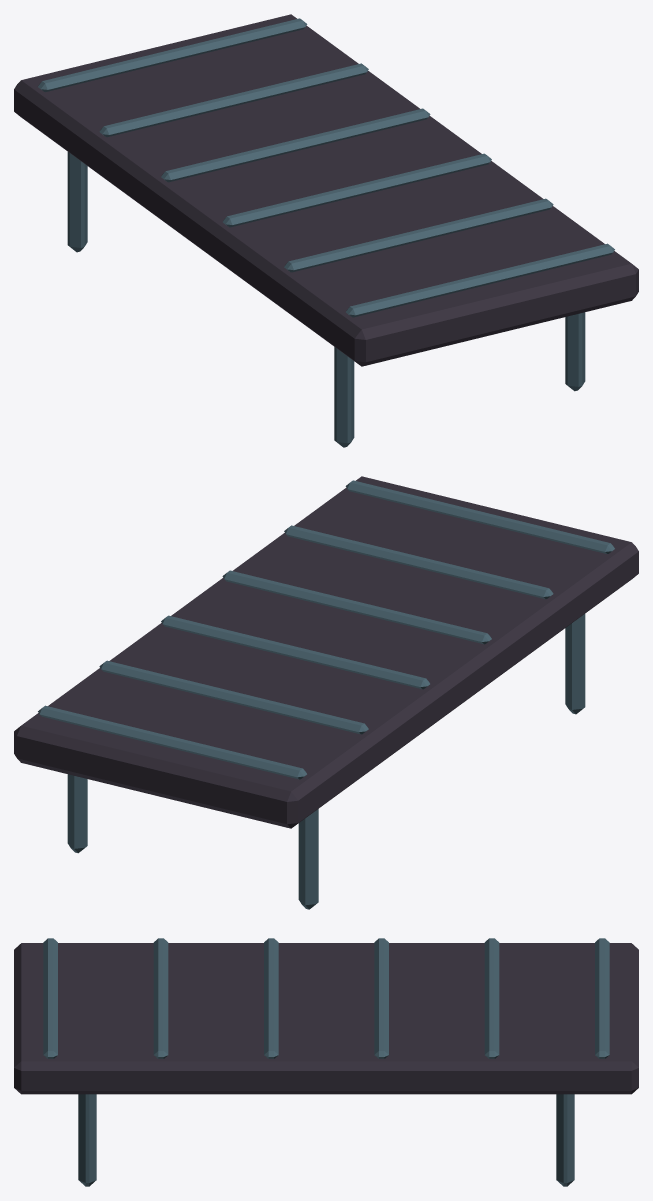
File: conveyor.glb
3 renders of one model, top to bottom at view 1: azimuth 30°, elevation 25°; view 2: azimuth 150°, elevation 25°; view 3: azimuth 270°, elevation 25°, orthographic. The views are drawn at different scales.
Visible parts, largest first — view 1: conveyor-belt, belt-slat.003, belt-slat.001, belt-slat.005, belt-slat, belt-slat.002, belt-slat.004, conveyor-leg.001, conveyor-leg, conveyor-leg.002; view 2: conveyor-belt, belt-slat.002, belt-slat, belt-slat.004, belt-slat.005, belt-slat.001, belt-slat.003, conveyor-leg, conveyor-leg.001, conveyor-leg.003; view 3: conveyor-belt, belt-slat.001, belt-slat.004, belt-slat.002, belt-slat.003, belt-slat, belt-slat.005, conveyor-leg.002, conveyor-leg.003.
Part boxes in pixels (bbox=[...]): conveyor-belt: bbox=[14, 14, 638, 366]; belt-slat.003: bbox=[161, 108, 430, 182]; belt-slat.001: bbox=[284, 198, 553, 272]; belt-slat.005: bbox=[38, 18, 307, 91]; belt-slat: bbox=[346, 243, 614, 317]; belt-slat.002: bbox=[223, 153, 491, 227]; belt-slat.004: bbox=[99, 63, 368, 137]; conveyor-leg.001: bbox=[67, 152, 87, 252]; conveyor-leg: bbox=[334, 347, 354, 447]; conveyor-leg.002: bbox=[565, 312, 585, 391]; conveyor-belt: bbox=[14, 476, 638, 828]; belt-slat.002: bbox=[222, 570, 491, 644]; belt-slat: bbox=[345, 480, 614, 553]; belt-slat.004: bbox=[99, 660, 368, 734]; belt-slat.005: bbox=[38, 705, 306, 779]; belt-slat.001: bbox=[284, 525, 553, 599]; belt-slat.003: bbox=[161, 615, 429, 689]; conveyor-leg: bbox=[565, 614, 585, 714]; conveyor-leg.001: bbox=[298, 809, 318, 909]; conveyor-leg.003: bbox=[67, 774, 87, 853]; conveyor-belt: bbox=[14, 943, 638, 1094]; belt-slat.001: bbox=[153, 938, 168, 1058]; belt-slat.004: bbox=[484, 938, 499, 1058]; belt-slat.002: bbox=[264, 938, 278, 1058]; belt-slat.003: bbox=[374, 938, 388, 1058]; belt-slat: bbox=[43, 938, 57, 1058]; belt-slat.005: bbox=[595, 938, 609, 1058]; conveyor-leg.002: bbox=[78, 1094, 96, 1186]; conveyor-leg.003: bbox=[556, 1094, 574, 1186].
Bounding box in the file's own units: 1.6 × 0.845 × 3.4.
